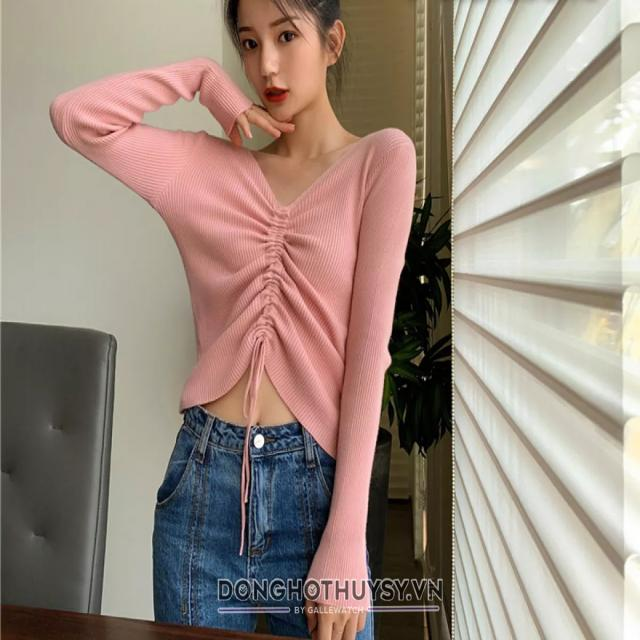clothes: (42, 54, 428, 640)
